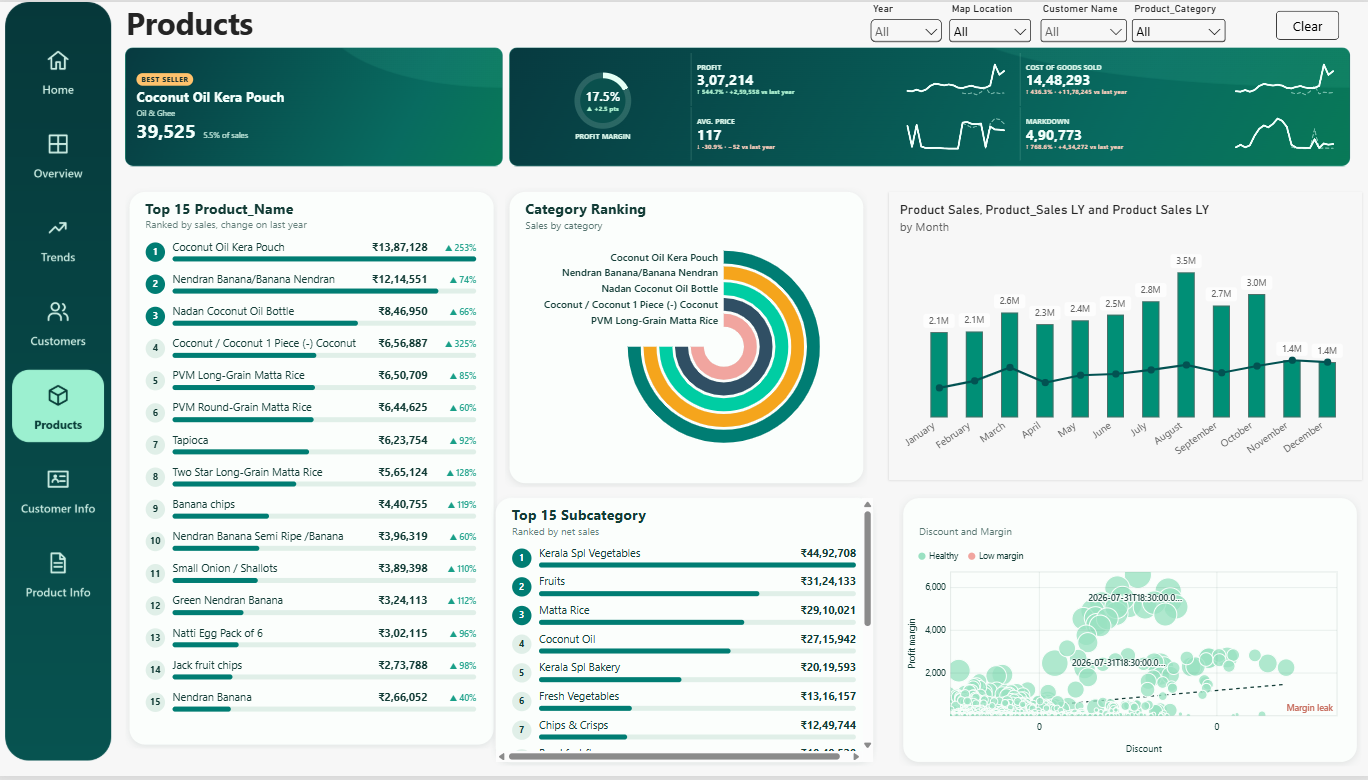

This screenshot's page, from the dashboard's own definition file:
{"tool":"powerbi","page":{"name":"Products","canvas":[1920,1080],"ordinal":4},"visuals":[{"type":"image","box":[9.2,0,156.4,1058.3],"z":0},{"type":"ProductPerformanceHeaderB842C486D6E747D9B63604E13B26A6D1","fields":{"period":["Date.Month Start"],"bestName":["Bengaluru Store Zones.Best Seller Name"],"bestCategory":["Bengaluru Store Zones.Best Seller Category"],"bestSales":["Bengaluru Store Zones.Best Seller Sales"],"bestShare":["Bengaluru Store Zones.Best Seller Sales Share %"],"sales":["Bengaluru Store Zones.Best Seller Sales"],"units":["Bengaluru Store Zones.Best Seller Units"],"profit":["Bengaluru Store Zones.Best Seller Estimated Profit"],"cost":["Bengaluru Store Zones.Best Seller Estimated COGS"],"markdown":["Bengaluru Store Zones.Best Seller Markdown"],"priorSales":["Bengaluru Store Zones.Best Seller Sales LY"],"priorUnits":["Bengaluru Store Zones.Best Seller Units LY"],"priorProfit":["Bengaluru Store Zones.Best Seller Estimated Profit LY"],"priorCost":["Bengaluru Store Zones.Best Seller Estimated COGS LY"],"priorMarkdown":["Bengaluru Store Zones.Best Seller Markdown LY"]},"box":[164.7,49.4,1741.3,195.5],"z":1000},{"type":"RankedHorizontalBarsD391A8F624BC","fields":{"category":["Order_Items.Product_Name_English"],"value":["Order_Items.Product Sales"],"lastYear":["Order_Items.Product Sales LY"],"tooltips":["Order_Items.Product Sales YoY %"]},"box":[164.7,244.9,551.6,813],"z":2000},{"type":"lineClusteredColumnComboChart","fields":{"Category":["Date.Month Start.Variation.Date Hierarchy.Month"],"Y":["Order_Items.Product Sales"],"Y2":["Order_Items.Product_Sales LY"]},"box":[1245.3,265.5,660.7,401.4],"z":3000},{"type":"BubbleChartC495D108B72E","fields":{"product":["Date.Month Start"],"x":["Bengaluru Store Zones.Markdown %"],"y":["Order_Items.Total Units"],"size":["Order_Items.Product Sales"],"category":["Product Lookup.Subcategory"]},"box":[1243.2,671,677.2,409.6],"z":4000},{"type":"RadialBarChartD860A247C931","fields":{"value":["Order_Items.Product Sales"],"target":["Bengaluru Store Zones.Radial Sales Capacity"],"category":["Order_Items.Product_Name_English"]},"box":[693.7,244.9,537.2,448.7],"z":5000},{"type":"RankedHorizontalBarsD391A8F624BC","fields":{"category":["Product Lookup.Subcategory"],"value":["Order_Items.Net Sales"]},"box":[675.1,671,570.2,409.6],"z":6000},{"type":"slicer","fields":{"Values":["Order_Items.Year"]},"box":[1216.6,0,109,63.8],"z":7000},{"type":"slicer","fields":{"Values":["Bengaluru Store Zones.Map Location"]},"box":[1325.2,0,123.4,61.7],"z":8000},{"type":"slicer","fields":{"Values":["Order_Items.Customer Name"]},"box":[1452.2,0,129.6,61.7],"z":9000},{"type":"slicer","fields":{"Values":["Order_Items.Product_Category"]},"box":[1581,0,139.8,86.4],"z":10000},{"type":"textbox","box":[182.2,0,270.6,81],"z":11000},{"type":"shape","box":[51.5,162,71.8,64.4],"z":12000},{"type":"shape","box":[51.5,294.5,71.8,66.3],"z":13000},{"type":"shape","box":[57.1,399.4,64.4,66.3],"z":14000},{"type":"shape","box":[51.5,633.1,64.4,66.3],"z":15000},{"type":"shape","box":[57.1,756.4,60.7,60.7],"z":16000},{"type":"shape","box":[53.4,62.6,69.9,55.2],"z":17000},{"type":"actionButton","box":[1785.3,12.9,88.3,40.5],"z":18000}]}

Visuals, with their boxes on the page's 1920x1080 design canvas (x1, y1, x2, y2). These are canvas units, not pixel positions in the 1368x780 screenshot, which may show the page scaled, cropped or inside an application window:
image: crop(9, 0, 166, 1058)
ProductPerformanceHeaderB842C486D6E747D9B63604E13B26A6D1 - Date.Month Start x Bengaluru Store Zones.Best Seller Name: crop(165, 49, 1906, 245)
RankedHorizontalBarsD391A8F624BC - Order_Items.Product_Name_English x Order_Items.Product Sales: crop(165, 245, 716, 1058)
lineClusteredColumnComboChart - Date.Month Start.Variation.Date Hierarchy.Month x Order_Items.Product Sales: crop(1245, 266, 1906, 667)
BubbleChartC495D108B72E - Date.Month Start x Bengaluru Store Zones.Markdown %: crop(1243, 671, 1920, 1081)
RadialBarChartD860A247C931 - Order_Items.Product Sales x Bengaluru Store Zones.Radial Sales Capacity: crop(694, 245, 1231, 694)
RankedHorizontalBarsD391A8F624BC - Product Lookup.Subcategory x Order_Items.Net Sales: crop(675, 671, 1245, 1081)
slicer - Order_Items.Year: crop(1217, 0, 1326, 64)
slicer - Bengaluru Store Zones.Map Location: crop(1325, 0, 1449, 62)
slicer - Order_Items.Customer Name: crop(1452, 0, 1582, 62)
slicer - Order_Items.Product_Category: crop(1581, 0, 1721, 86)
textbox: crop(182, 0, 453, 81)
shape: crop(52, 162, 123, 226)
shape: crop(52, 294, 123, 361)
shape: crop(57, 399, 122, 466)
shape: crop(52, 633, 116, 699)
shape: crop(57, 756, 118, 817)
shape: crop(53, 63, 123, 118)
actionButton: crop(1785, 13, 1874, 53)
